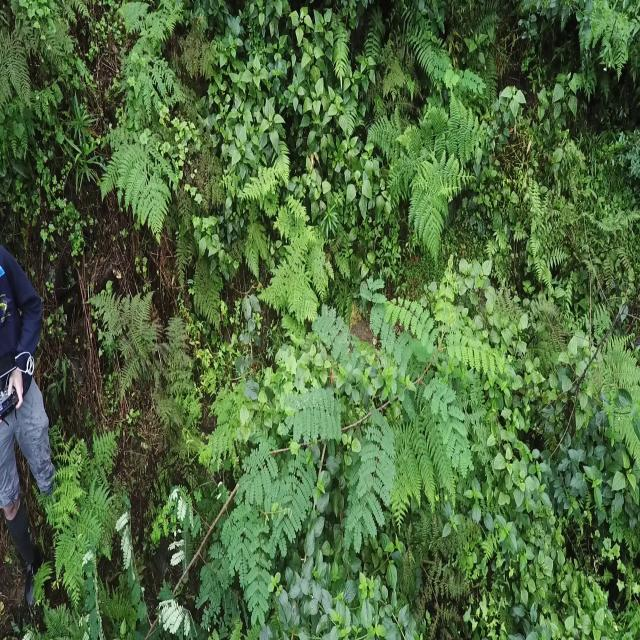Mysore-Thorn-Weed: (275, 270, 512, 545), (82, 445, 278, 640)
